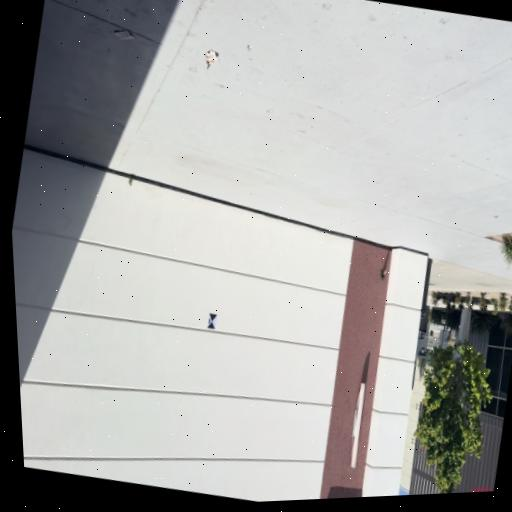target4: (207, 313, 217, 329)
